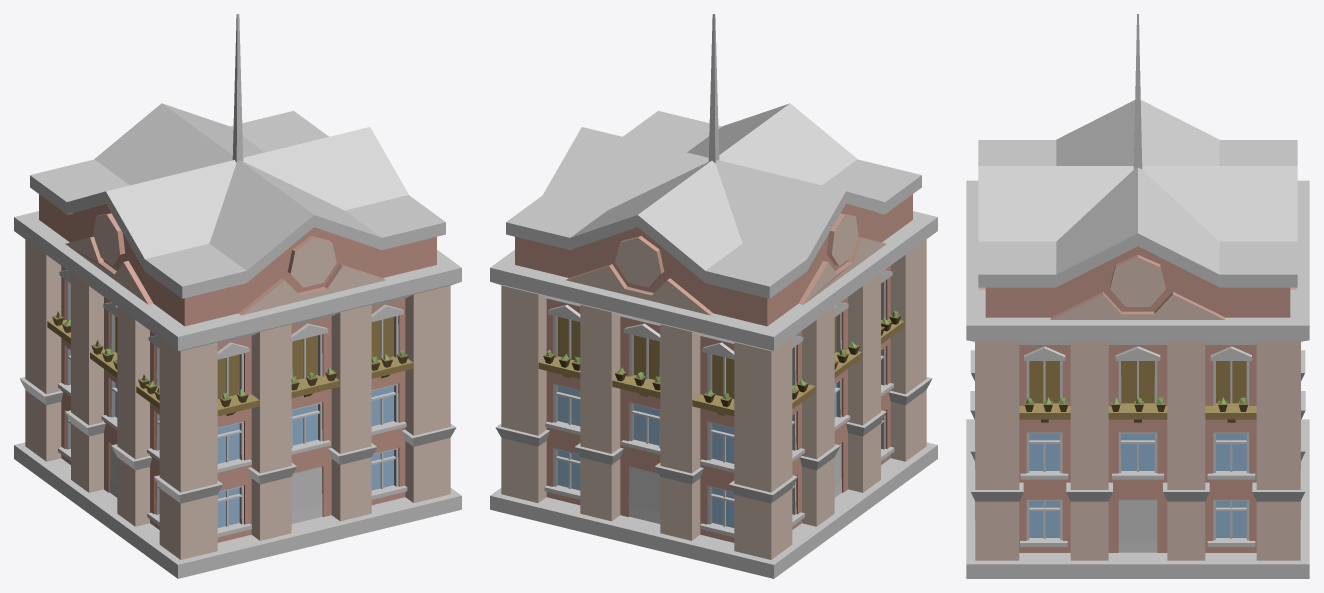
File: house_art_002.fbx
3 views of the same model, side by side, from view 1: azimuth 30°, elevation 25°; view 2: azimuth 150°, elevation 25°; view 3: azimuth 270°, elevation 25° (orthographic). The views are drawn at different scales.
Visible parts, largest first — view 1: house_art_002; view 2: house_art_002; view 3: house_art_002.
Part boxes in pixels (box(x1,y1,x2,y2)): house_art_002: box(14, 14, 461, 578); house_art_002: box(490, 14, 937, 578); house_art_002: box(966, 14, 1309, 578).
Size of the model in its own units: 1171 by 1852 by 1171.
